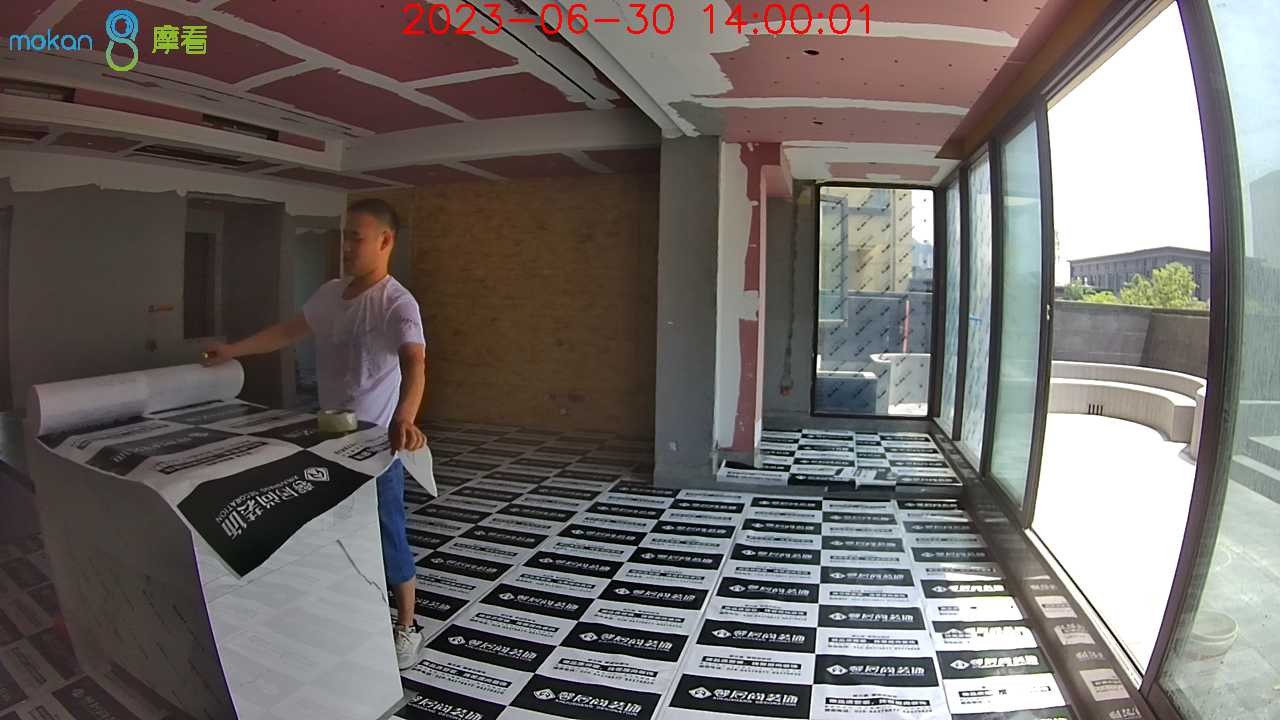people: (208, 197, 431, 670)
window: (943, 15, 1274, 694), (824, 187, 927, 417)
